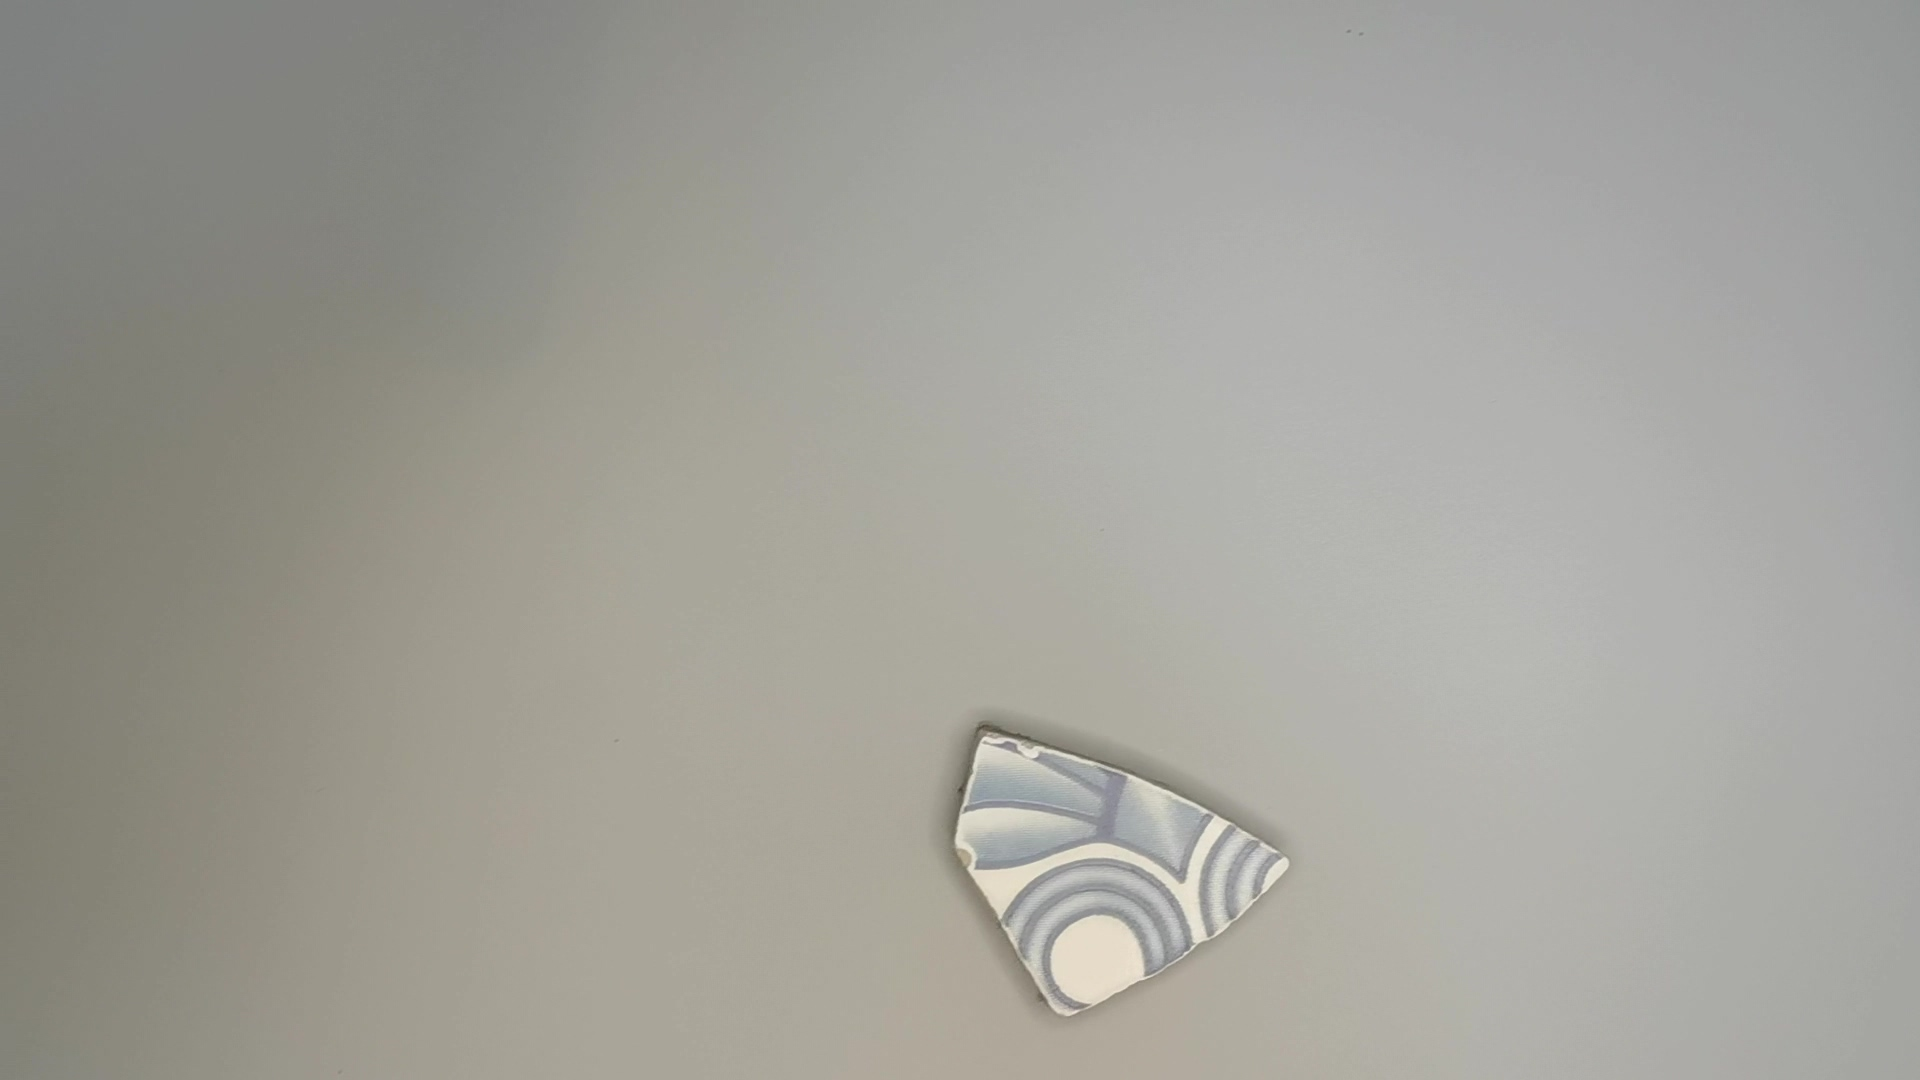ceramic: (945, 723, 1298, 1025)
